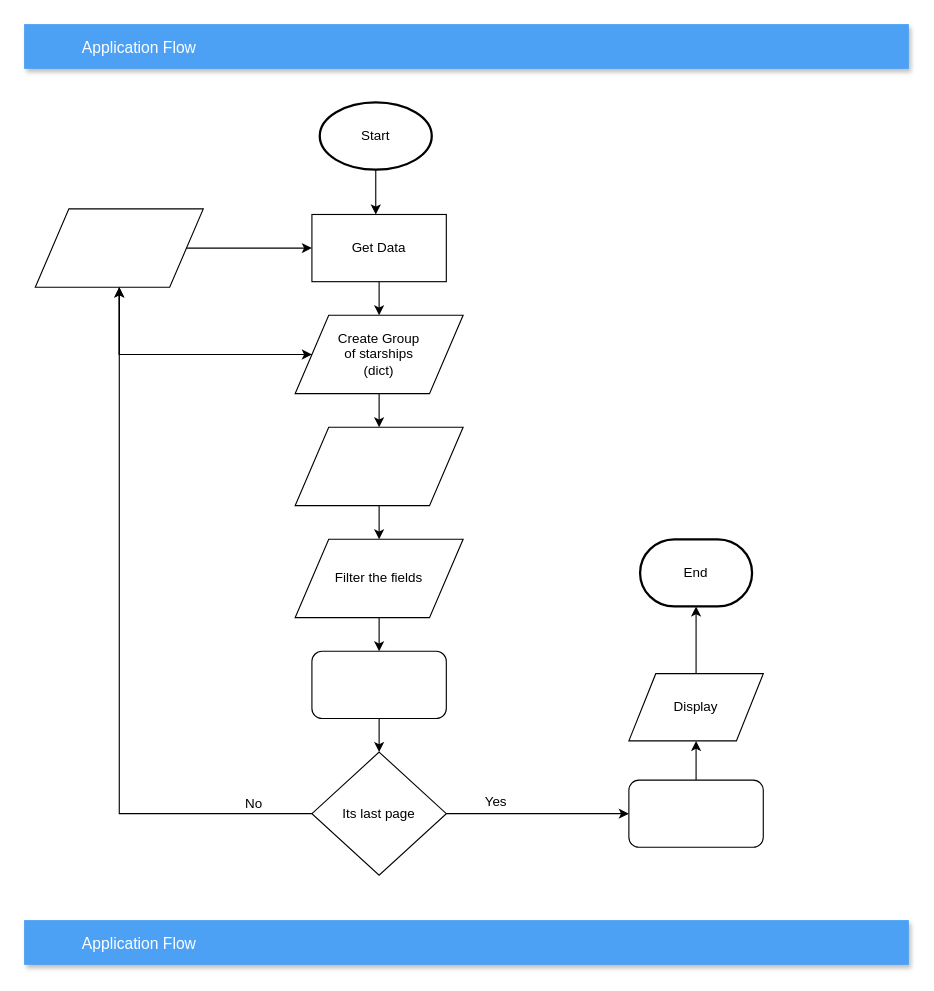
The diagram is 934 pixels wide and 991 high, and some of its shapes have lost their labels. The centre of each missing label's shape, as x and y in pixels:
Get the data: the point at 695,813
Separate null rating hyperdrive: the point at 378,466
StarWars API: the point at 118,247
Store data in variable: the point at 378,684
